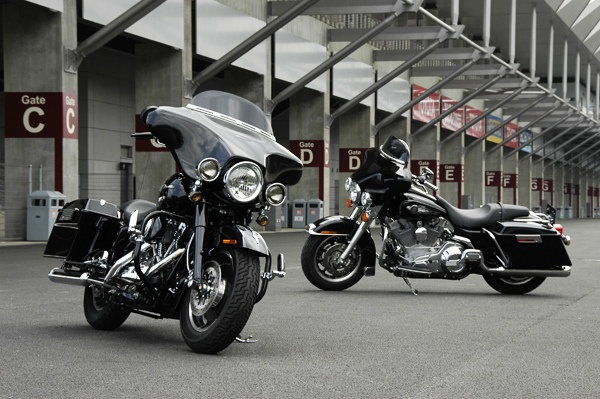non-vehicle: (43, 89, 301, 354), (299, 134, 573, 294)
